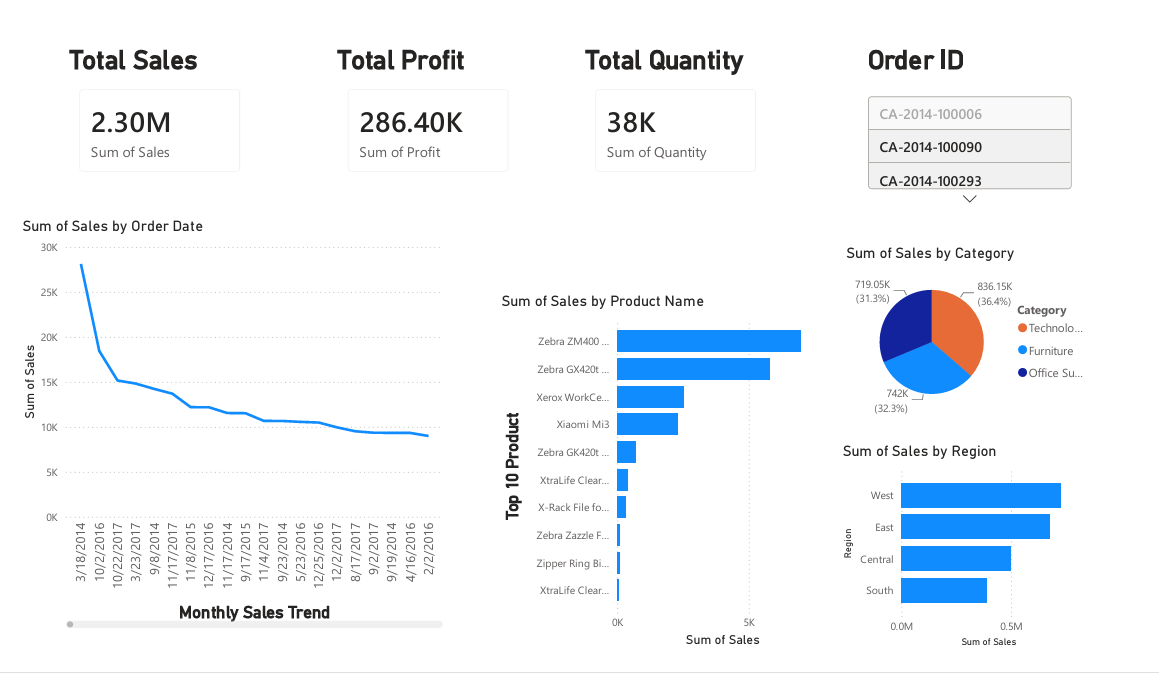

Layout of this report page (visuals, bound fields, positions):
{"tool":"powerbi","page":{"name":"Page 1","canvas":[1280,720],"ordinal":0},"visuals":[{"type":"cardVisual","title":"Total Sales","fields":{"Data":["Sum(Sample - Superstore.Sales)"]},"box":[52.9,28.3,217.3,162.5],"z":0},{"type":"cardVisual","title":"Total Profit","fields":{"Data":["Sum(Sample - Superstore.Profit)"]},"box":[359.1,28.3,217.3,162.5],"z":1000},{"type":"cardVisual","title":"Total Quantity","fields":{"Data":["Sum(Sample - Superstore.Quantity)"]},"box":[640.6,28.3,217.3,162.5],"z":2000},{"type":"cardVisual","title":"Order ID","fields":{"Rows":["Sample - Superstore.Order ID"]},"box":[963.8,28.3,241.9,190.9],"z":3000},{"type":"lineChart","fields":{"Category":["Sample - Superstore.Order Date Hierarchy.Order Date"],"Y":["Sum(Sample - Superstore.Sales)"]},"box":[0,224.9,489.5,474.3],"z":3001},{"type":"clusteredBarChart","fields":{"Category":["Sample - Superstore.Product Name"],"Y":["Sum(Sample - Superstore.Sales)"]},"box":[546.1,309.9,389.3,410.1],"z":3003},{"type":"pieChart","fields":{"Category":["Sample - Superstore.Category"],"Y":["Sum(Sample - Superstore.Sales)"]},"box":[939.2,255.1,289.1,206],"z":3004},{"type":"barChart","fields":{"Category":["Sample - Superstore.Region"],"Y":["Sum(Sample - Superstore.Sales)"]},"box":[935.4,481.9,289.1,238.1],"z":3005}]}

Visuals, with their boxes on the page's 1280x720 design canvas (x1, y1, x2, y2). These are canvas units, not pixel positions in the 1159x673 screenshot, which may show the page scaled, cropped or inside an application window:
"Total Sales" cardVisual: <bbox>53, 28, 270, 191</bbox>
"Total Profit" cardVisual: <bbox>359, 28, 576, 191</bbox>
"Total Quantity" cardVisual: <bbox>641, 28, 858, 191</bbox>
"Order ID" cardVisual: <bbox>964, 28, 1206, 219</bbox>
lineChart - Sample - Superstore.Order Date Hierarchy.Order Date x Sum(Sample - Superstore.Sales): <bbox>0, 225, 490, 699</bbox>
clusteredBarChart - Sample - Superstore.Product Name x Sum(Sample - Superstore.Sales): <bbox>546, 310, 935, 720</bbox>
pieChart - Sample - Superstore.Category x Sum(Sample - Superstore.Sales): <bbox>939, 255, 1228, 461</bbox>
barChart - Sample - Superstore.Region x Sum(Sample - Superstore.Sales): <bbox>935, 482, 1224, 720</bbox>
